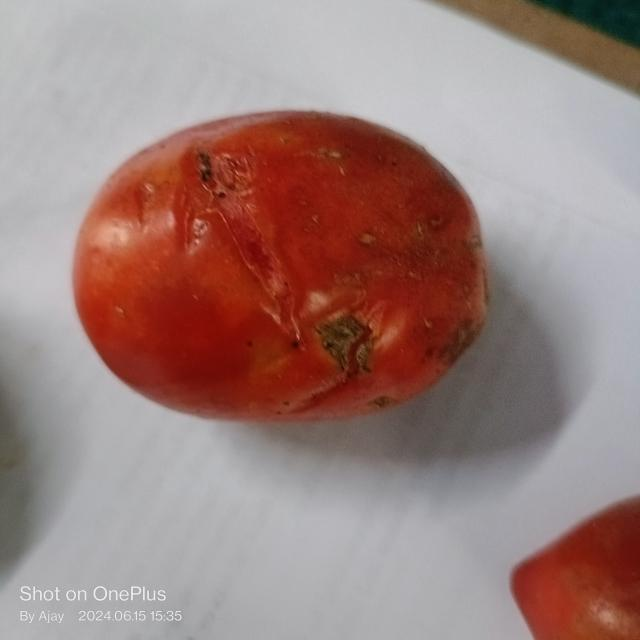Botrytis: (318, 315, 377, 370), (441, 316, 472, 354), (177, 219, 213, 250), (193, 152, 226, 185), (424, 208, 457, 233)
